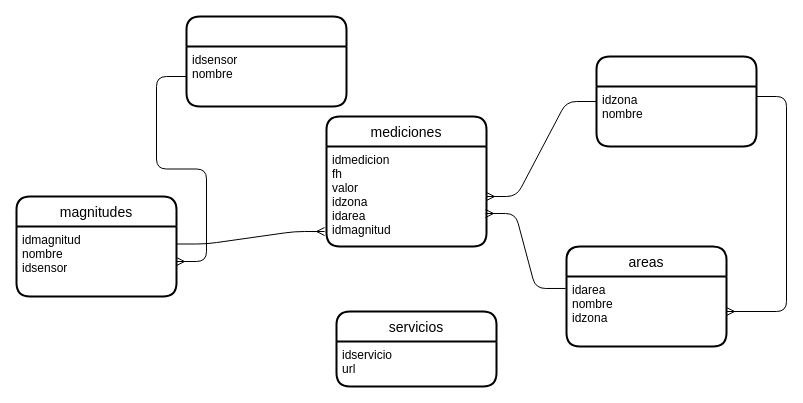
The diagram is 803 pixels wide and 403 high, and some of its shapes have lost their labels. The shapes that lost their labels are listed below. From the top down, each one's box as (x1, y1, x2, y2) in pixels, then its label:
(185, 15, 347, 107): sensores
(595, 55, 757, 147): zonas
